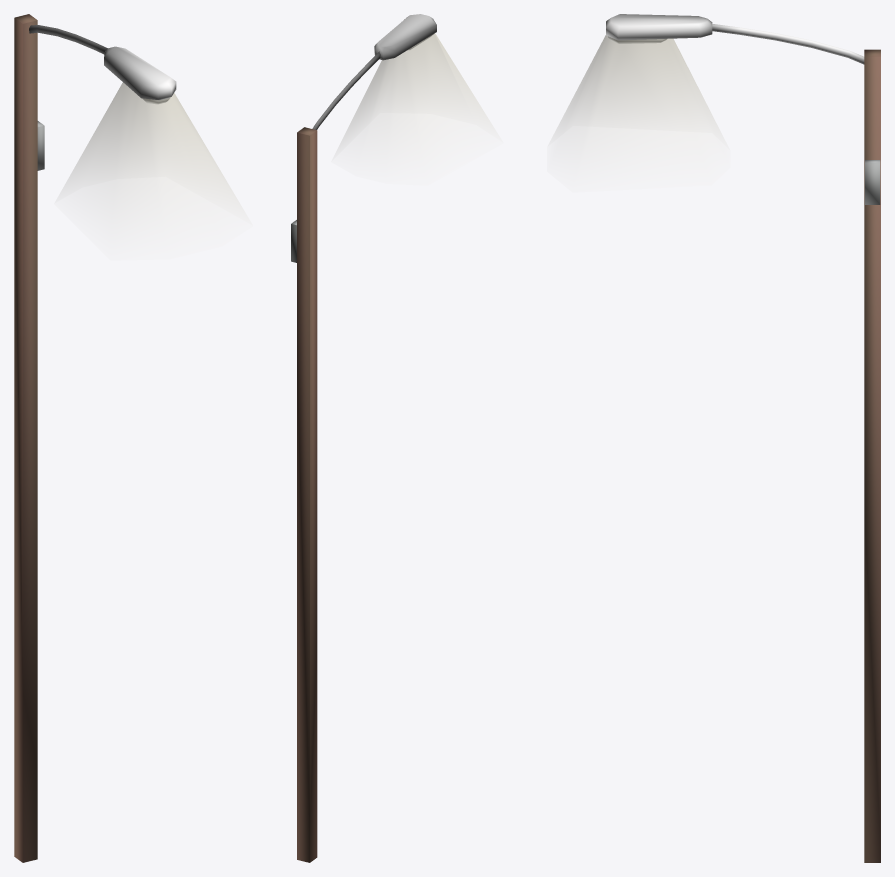
The model's file is furnishings-lightsources-streetlamp_v1.glb.
3 views of the same model, side by side, from view 1: azimuth 30°, elevation 25°; view 2: azimuth 150°, elevation 25°; view 3: azimuth 270°, elevation 25° (orthographic). The views are drawn at different scales.
Visible parts, largest first — view 1: StreetLamp_base, StreetLamp_light; view 2: StreetLamp_base, StreetLamp_light; view 3: StreetLamp_base, StreetLamp_light.
Part boxes in pixels (x1=…): StreetLamp_base: x1=14, y1=14, x2=176, y2=862; StreetLamp_light: x1=68, y1=82, x2=237, y2=200; StreetLamp_base: x1=291, y1=14, x2=436, y2=862; StreetLamp_light: x1=343, y1=33, x2=489, y2=138; StreetLamp_base: x1=606, y1=14, x2=880, y2=862; StreetLamp_light: x1=559, y1=35, x2=718, y2=131.
Size of the model in its own units: 2.08 by 11.16 by 4.11.
